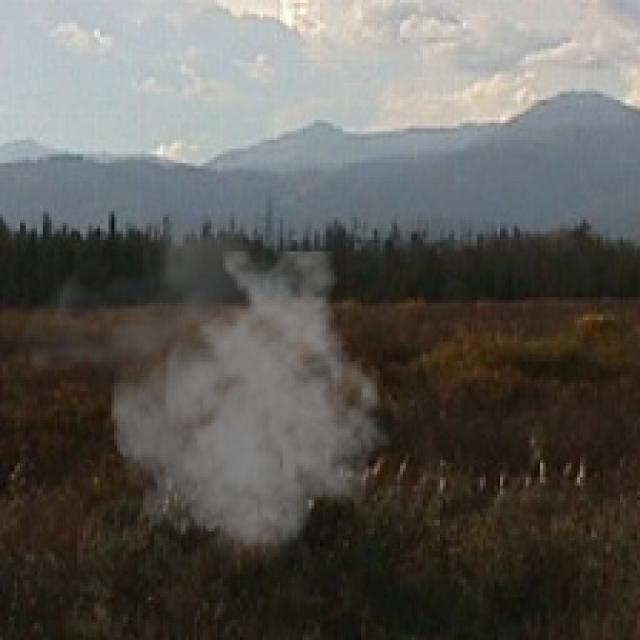Smoke: (11, 206, 392, 574)
